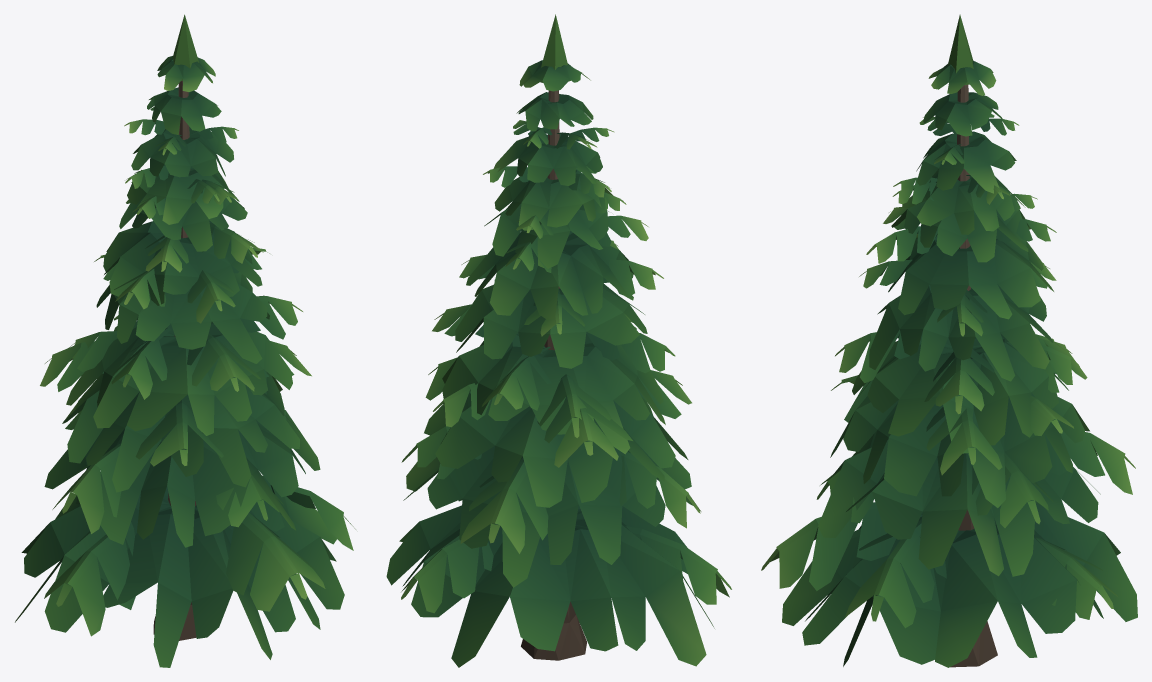
Rendered from spruce_S_normal_std_s10.glb.
3 renders of one model, left to right at view 1: azimuth 30°, elevation 25°; view 2: azimuth 150°, elevation 25°; view 3: azimuth 270°, elevation 25°, orthographic. The views are drawn at different scales.
Parts seen in each view (by area): view 1: Tree; view 2: Tree; view 3: Tree.
Boxes of the visible parts, x1,y1,x2,y2 form: Tree: [15, 14, 355, 667]; Tree: [386, 14, 731, 667]; Tree: [761, 14, 1137, 667].
Size of what is drawn, in the model's own units: 2.06 by 3.95 by 2.11.
